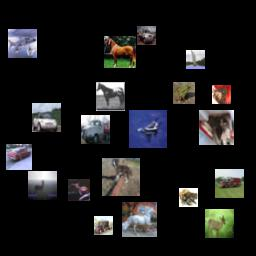airplane: (129, 110, 167, 148), (8, 29, 37, 58)
automobile: (32, 103, 61, 132), (6, 144, 32, 170)
cat: (199, 110, 234, 145)
deer: (205, 209, 234, 238), (28, 171, 57, 200), (68, 179, 90, 201)
dog: (102, 158, 140, 196)
frog: (173, 82, 195, 104), (212, 85, 231, 104), (179, 188, 198, 207)
ship: (186, 50, 205, 69)
truck: (81, 115, 110, 144), (215, 169, 244, 198), (137, 26, 156, 45), (94, 216, 113, 235)
